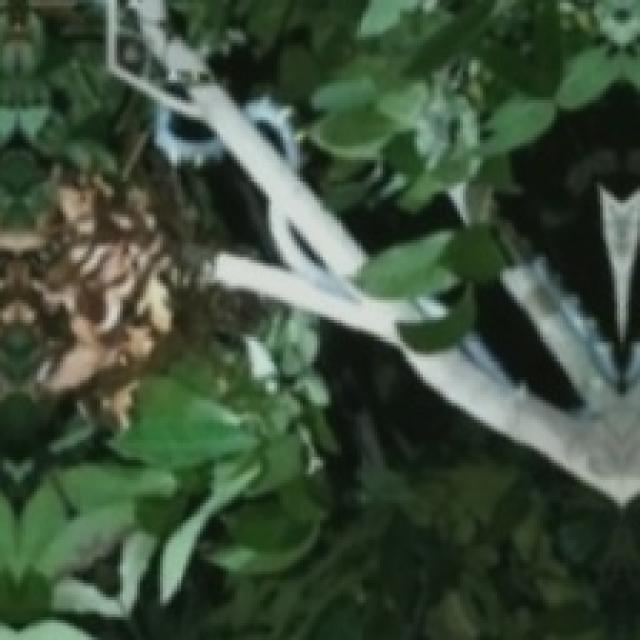mangrove cat snake: (526, 258, 620, 388), (268, 198, 352, 296), (155, 108, 222, 167), (248, 98, 299, 169), (460, 332, 514, 384), (411, 301, 448, 320), (625, 340, 640, 384)
